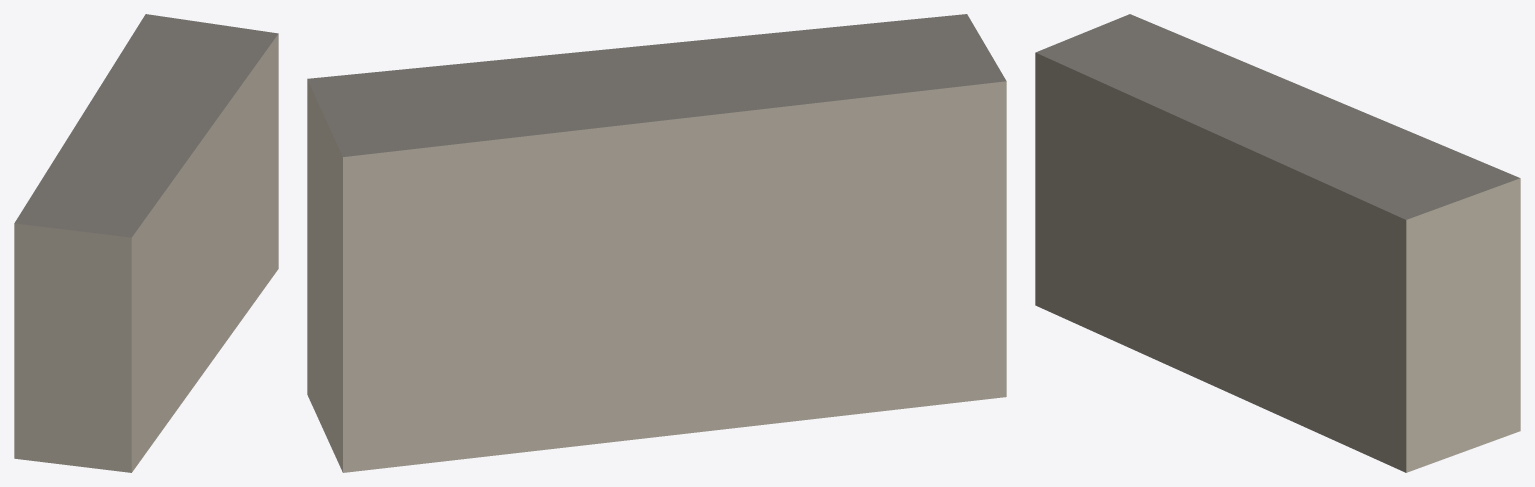
3 renders of one model, left to right at view 1: azimuth 30°, elevation 25°; view 2: azimuth 150°, elevation 25°; view 3: azimuth 270°, elevation 25°, orthographic. The views are drawn at different scales.
Parts seen in each view (by area): view 1: HP-w729793762; view 2: HP-w729793762; view 3: HP-w729793762.
Boxes of the visible parts, x1,y1,x2,y2 form: HP-w729793762: (14, 14, 278, 472); HP-w729793762: (307, 14, 1006, 472); HP-w729793762: (1035, 14, 1520, 472).
Bounding box in the file's own units: 31.43 × 18 × 31.28.
